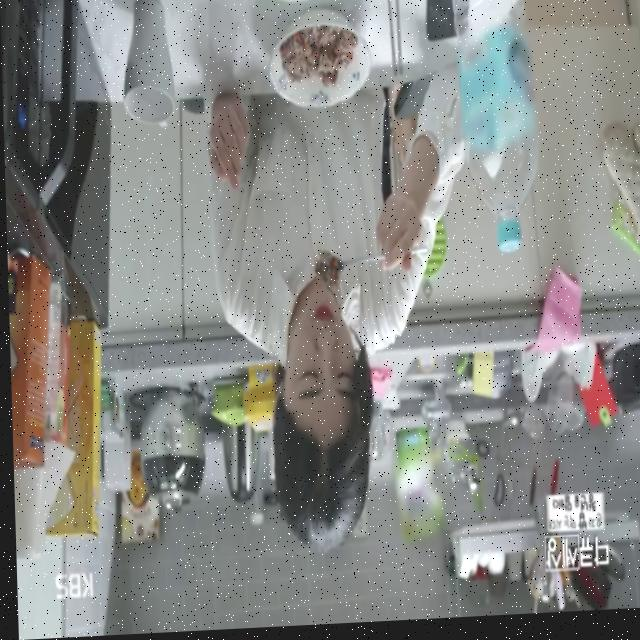eating-person: (194, 9, 479, 570)
